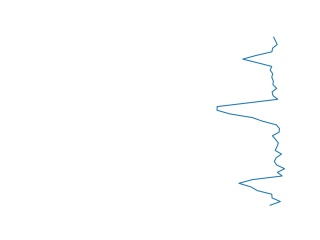underwaterNaturalLevee: (213, 35, 290, 210)
